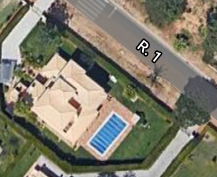pool: (93, 120, 130, 147)
